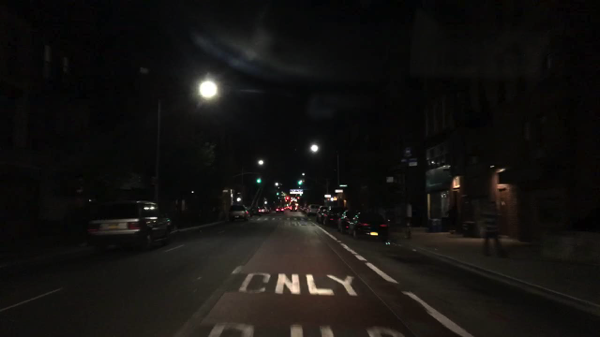car: (83, 201, 173, 250), (345, 212, 392, 242), (339, 210, 360, 234), (323, 205, 347, 226), (227, 204, 250, 221), (315, 206, 328, 223), (304, 205, 318, 216), (249, 206, 262, 216), (274, 206, 286, 213), (260, 206, 267, 214), (289, 205, 298, 211), (301, 206, 307, 214)
person: (477, 194, 507, 258)
traffic light: (257, 176, 261, 185), (298, 180, 302, 185), (331, 197, 334, 202)
traffic sign: (399, 158, 419, 168), (402, 147, 412, 158), (290, 189, 303, 194), (385, 176, 393, 182), (335, 190, 343, 193), (325, 195, 332, 198), (339, 185, 347, 187)
